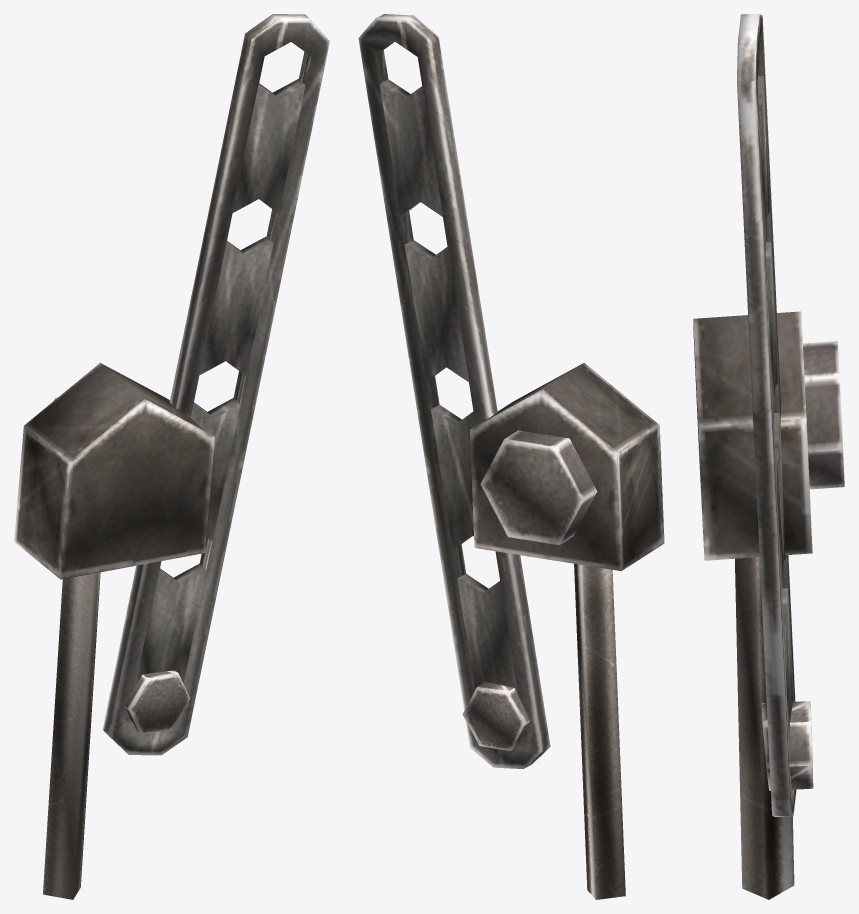
The model's file is Robot01.LeftKnee3.fbx.
3 views of the same model, side by side, from view 1: azimuth 30°, elevation 25°; view 2: azimuth 150°, elevation 25°; view 3: azimuth 270°, elevation 25° (orthographic). The views are drawn at different scales.
Parts seen in each view (by area): view 1: Robot.020; view 2: Robot.020; view 3: Robot.020.
Part boxes in pixels (x1,y1,x2,y2): Robot.020: (14,14,329,899); Robot.020: (358,14,664,899); Robot.020: (693,14,844,899).
Size of the model in its own units: 36.11 by 99.65 by 13.74.
